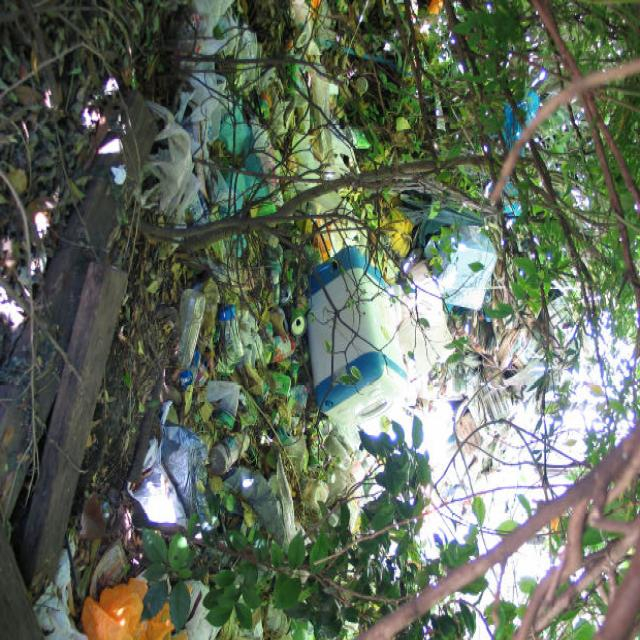metal: (234, 238, 475, 336)
trash: (58, 329, 556, 522)
